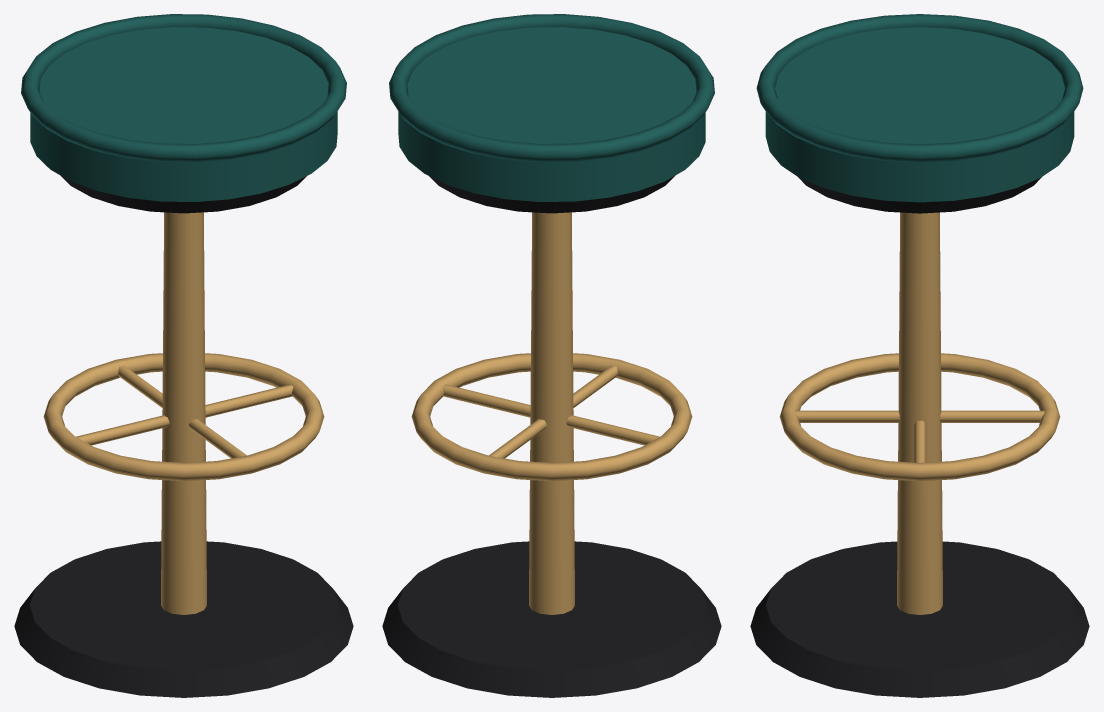
The model's file is bar_stool.glb.
The picture shows the model from 3 angles, left to right: view 1: azimuth 30°, elevation 25°; view 2: azimuth 150°, elevation 25°; view 3: azimuth 270°, elevation 25°; orthographic projection.
Parts seen in each view (by area): view 1: Mesh_Cushion, Mesh_Base, Mesh_Column, Mesh_Welt, Mesh_FootRing, Mesh_SeatPan, Mesh_Spoke0, Mesh_Spoke2, Mesh_Spoke1, Mesh_Spoke3; view 2: Mesh_Cushion, Mesh_Base, Mesh_Column, Mesh_Welt, Mesh_FootRing, Mesh_SeatPan, Mesh_Spoke0, Mesh_Spoke2, Mesh_Spoke3, Mesh_Spoke1; view 3: Mesh_Cushion, Mesh_Base, Mesh_Column, Mesh_Welt, Mesh_FootRing, Mesh_SeatPan, Mesh_Spoke1, Mesh_Spoke3, Mesh_Spoke0.
Boxes of the visible parts, left/top/right/bottom form: Mesh_Cushion: left=30, top=27, right=337, bottom=201; Mesh_Base: left=14, top=541, right=353, bottom=697; Mesh_Column: left=161, top=212, right=206, bottom=614; Mesh_Welt: left=21, top=14, right=346, bottom=162; Mesh_FootRing: left=43, top=353, right=324, bottom=481; Mesh_SeatPan: left=60, top=175, right=306, bottom=213; Mesh_Spoke0: left=205, top=384, right=293, bottom=417; Mesh_Spoke2: left=76, top=415, right=169, bottom=445; Mesh_Spoke1: left=188, top=419, right=246, bottom=458; Mesh_Spoke3: left=118, top=365, right=162, bottom=407; Mesh_Cushion: left=398, top=27, right=705, bottom=201; Mesh_Base: left=382, top=541, right=721, bottom=697; Mesh_Column: left=529, top=212, right=574, bottom=614; Mesh_Welt: left=389, top=14, right=714, bottom=162; Mesh_FootRing: left=411, top=353, right=692, bottom=481; Mesh_SeatPan: left=429, top=175, right=675, bottom=213; Mesh_Spoke0: left=442, top=384, right=530, bottom=417; Mesh_Spoke2: left=566, top=415, right=659, bottom=445; Mesh_Spoke3: left=489, top=419, right=547, bottom=458; Mesh_Spoke1: left=573, top=365, right=617, bottom=407; Mesh_Cushion: left=765, top=27, right=1074, bottom=202; Mesh_Base: left=750, top=541, right=1089, bottom=697; Mesh_Column: left=897, top=212, right=942, bottom=614; Mesh_Welt: left=756, top=14, right=1083, bottom=162; Mesh_FootRing: left=779, top=353, right=1060, bottom=481; Mesh_SeatPan: left=798, top=177, right=1041, bottom=213; Mesh_Spoke1: left=795, top=410, right=899, bottom=422; Mesh_Spoke3: left=940, top=410, right=1044, bottom=422; Mesh_Spoke0: left=913, top=420, right=926, bottom=462.
Size of the model in its own units: 0.44 by 0.7804 by 0.44.
